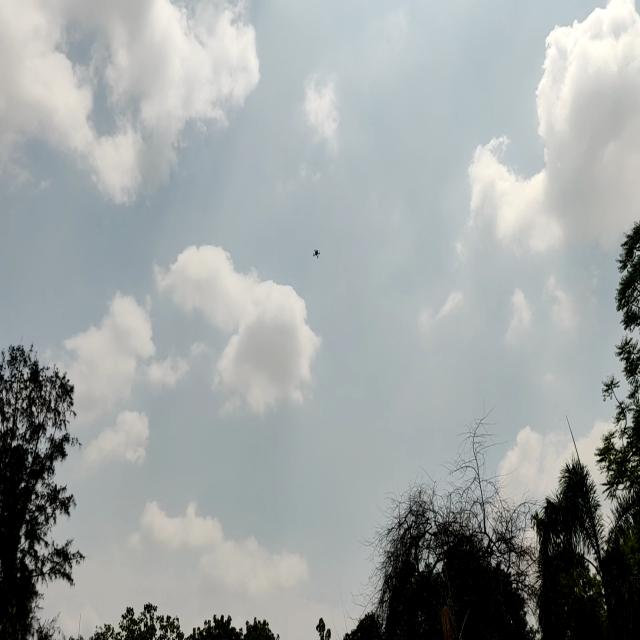drone: (310, 241, 325, 262)
